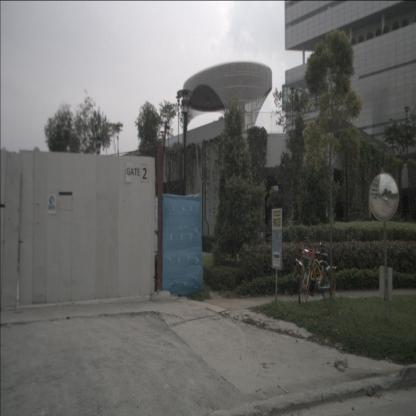vehicle-bicycle: (298, 235, 336, 305), (289, 237, 331, 295)
